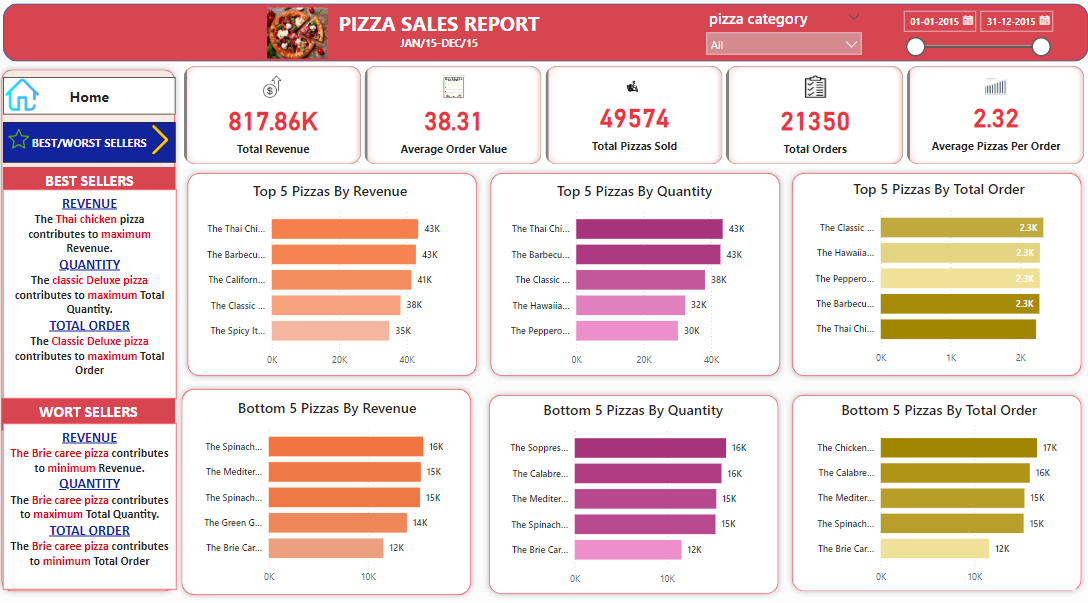

Layout of this report page (visuals, bound fields, positions):
{"tool":"powerbi","page":{"name":"BEST/WORST SELLERS","canvas":[1500,820],"ordinal":1},"visuals":[{"type":"actionButton","box":[0,0,100,39.6],"z":0},{"type":"cardVisual","fields":{"Data":["pizza_sales.Total Revenue","pizza_sales.Average Order Value","pizza_sales.Total Pizzas Sold","pizza_sales.Total Orders","pizza_sales.Average Pizzas Per Order"]},"box":[275.5,83,1211.3,141.5],"z":1000},{"type":"shape","box":[39.6,5.7,1447.2,77.4],"z":2000},{"type":"textbox","box":[433.3,7.8,374.5,70.6],"z":3000},{"type":"shape","box":[29.4,86.3,247.1,711.8],"z":4000},{"type":"image","box":[360.8,5.9,145.1,78.4],"z":5000},{"type":"shape","box":[269.8,511.3,401.9,290.6],"z":6000},{"type":"textbox","box":[37.3,531.4,231.4,43.1],"z":7000},{"type":"shape","box":[679.2,520.8,401.9,281.1],"z":8000},{"type":"shape","box":[1084.9,520.8,401.9,277.4],"z":9000},{"type":"textbox","box":[39.6,224.5,230.2,43.4],"z":10000},{"type":"slicer","fields":{"Values":["pizza_sales.pizza_category"]},"box":[967.9,5.7,226.4,79.2],"z":11000},{"type":"slicer","fields":{"Values":["pizza_sales.order_date"]},"box":[1228.3,5.7,217,79.2],"z":12000},{"type":"shape","box":[277.4,224.5,401.9,286.8],"z":13000},{"type":"shape","box":[681.1,224.5,401.9,286.8],"z":14000},{"type":"shape","box":[1084.9,224.5,401.9,286.8],"z":15000},{"type":"barChart","title":"Top 5 Pizzas By Revenue","fields":{"Category":["pizza_sales.pizza_name"],"Y":["pizza_sales.Total Revenue"]},"box":[294.3,241.5,364.2,256.6],"z":16000},{"type":"barChart","title":"Bottom 5 Pizzas By Revenue","fields":{"Category":["pizza_sales.pizza_name"],"Y":["pizza_sales.Total Revenue"]},"box":[290.6,532.1,364.2,256.6],"z":17000},{"type":"barChart","title":"Top 5 Pizzas By Quantity","fields":{"Category":["pizza_sales.pizza_name"],"Y":["pizza_sales.Total Revenue"]},"box":[700,241.5,364.2,256.6],"z":18000},{"type":"barChart","title":"Bottom 5 Pizzas By Quantity","fields":{"Category":["pizza_sales.pizza_name"],"Y":["pizza_sales.Total Revenue"]},"box":[698.1,534,364.2,256.6],"z":19000},{"type":"barChart","title":"Top 5 Pizzas By Total Order","fields":{"Category":["pizza_sales.pizza_name"],"Y":["pizza_sales.Total Orders"]},"box":[1105.7,239.6,364.2,256.6],"z":20000},{"type":"barChart","title":"Bottom 5 Pizzas By Total Order","fields":{"Category":["pizza_sales.pizza_name"],"Y":["pizza_sales.Total Revenue"]},"box":[1105.7,534,364.2,254.7],"z":21000},{"type":"textbox","box":[39.2,566.7,231.4,221.6],"z":22000},{"type":"textbox","box":[39.2,254.9,231.4,278.4],"z":23000},{"type":"pageNavigator","box":[39.6,164.2,230.2,54.7],"z":24000},{"type":"pageNavigator","box":[39.6,103.8,230.2,50.9],"z":25000},{"type":"image","box":[41.5,156.6,37.7,60.4],"z":26000},{"type":"image","box":[37.7,100,54.7,54.7],"z":27000},{"type":"image","box":[209.4,162.3,79.2,50.9],"z":28000}]}

Visuals, with their boxes in screenshot pixels (x1, y1, x2, y2), scaled from the page's 1500x820 canvas onto the 1088x603 screenshot:
actionButton: (0,0,73,29)
cardVisual - pizza_sales.Total Revenue x pizza_sales.Average Order Value: (200,61,1078,165)
shape: (29,4,1078,61)
textbox: (314,6,586,58)
shape: (21,63,201,587)
image: (262,4,367,62)
shape: (196,376,487,590)
textbox: (27,391,195,422)
shape: (493,383,784,590)
shape: (787,383,1078,587)
textbox: (29,165,196,197)
slicer - pizza_sales.pizza_category: (702,4,866,62)
slicer - pizza_sales.order_date: (891,4,1048,62)
shape: (201,165,493,376)
shape: (494,165,786,376)
shape: (787,165,1078,376)
"Top 5 Pizzas By Revenue" barChart: (213,178,478,366)
"Bottom 5 Pizzas By Revenue" barChart: (211,391,475,580)
"Top 5 Pizzas By Quantity" barChart: (508,178,772,366)
"Bottom 5 Pizzas By Quantity" barChart: (506,393,771,581)
"Top 5 Pizzas By Total Order" barChart: (802,176,1066,365)
"Bottom 5 Pizzas By Total Order" barChart: (802,393,1066,580)
textbox: (28,417,196,580)
textbox: (28,187,196,392)
pageNavigator: (29,121,196,161)
pageNavigator: (29,76,196,114)
image: (30,115,57,160)
image: (27,74,67,114)
image: (152,119,209,157)
